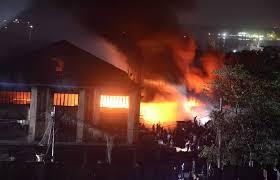fire: (138, 95, 202, 123), (98, 93, 130, 107)
